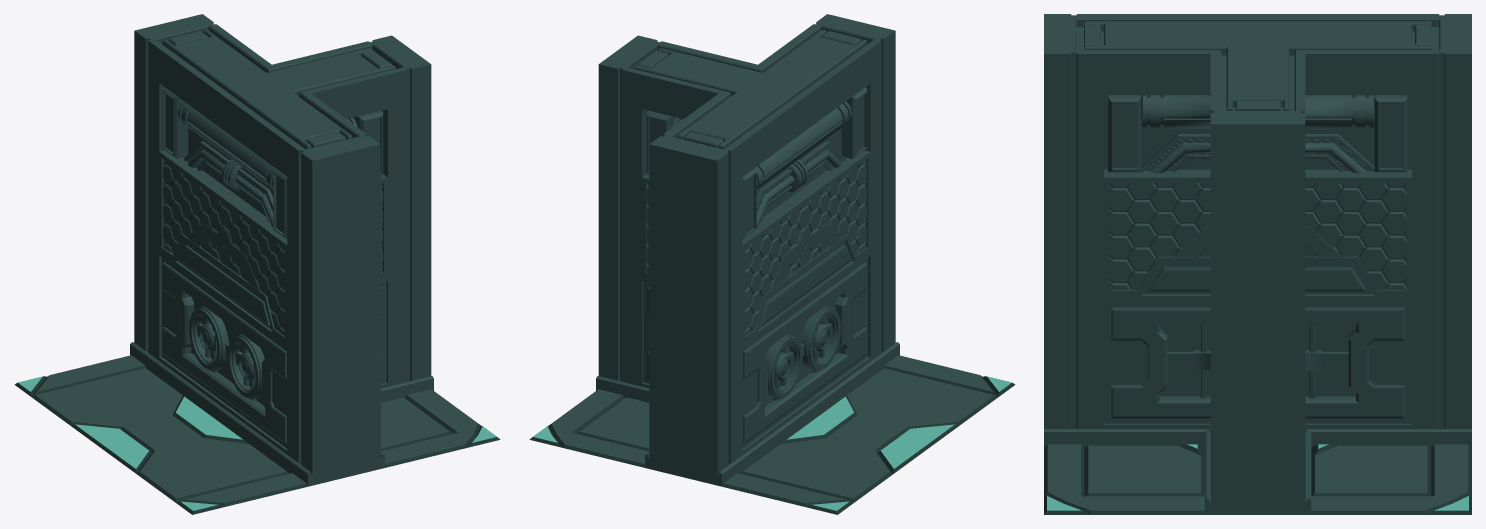
Rendered from Walls_3Way_Var00.fbx.
3 renders of one model, left to right at view 1: azimuth 30°, elevation 25°; view 2: azimuth 150°, elevation 25°; view 3: azimuth 270°, elevation 25°, orthographic. The views are drawn at different scales.
Parts seen in each view (by area): view 1: Walls_3Way_Var00; view 2: Walls_3Way_Var00; view 3: Walls_3Way_Var00.
Part boxes in pixels (x1,y1,x2,y2): Walls_3Way_Var00: (14,14,500,514); Walls_3Way_Var00: (529,14,1015,514); Walls_3Way_Var00: (1044,14,1471,514).
Size of the model in its own units: 600 by 604 by 600.
